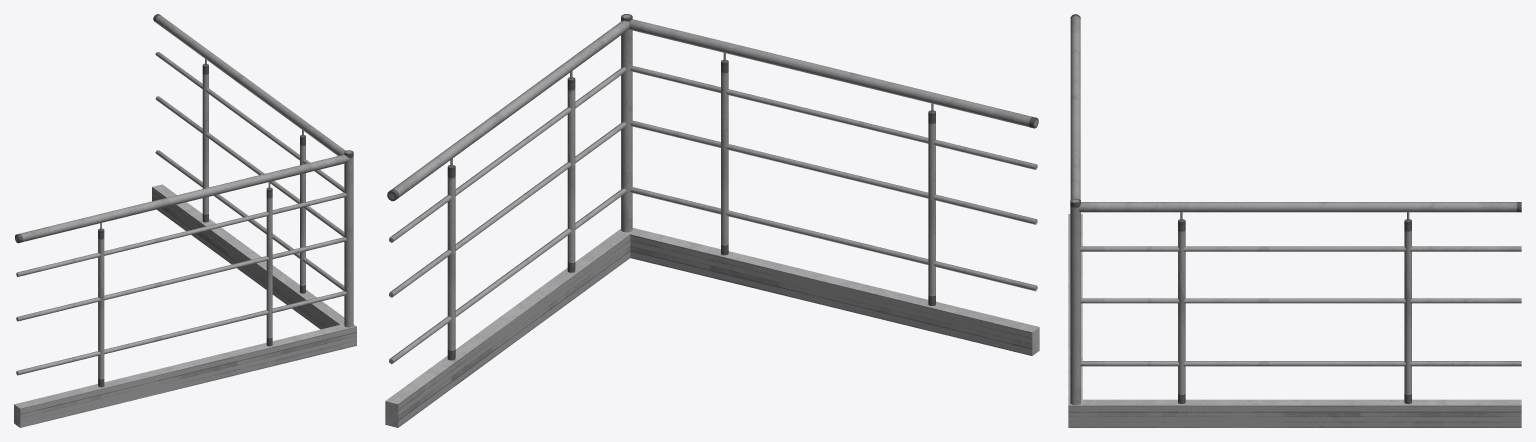
Rendered from HH_Railing_Angle.fbx.
3 renders of one model, left to right at view 1: azimuth 30°, elevation 25°; view 2: azimuth 150°, elevation 25°; view 3: azimuth 270°, elevation 25°, orthographic. The views are drawn at different scales.
Visible parts, largest first — view 1: HH_Railing_Angle_LOD0; view 2: HH_Railing_Angle_LOD0; view 3: HH_Railing_Angle_LOD0.
Part boxes in pixels (box(x1,y1,x2,y2)): HH_Railing_Angle_LOD0: box(14, 14, 356, 427); HH_Railing_Angle_LOD0: box(385, 14, 1039, 427); HH_Railing_Angle_LOD0: box(1068, 14, 1521, 427).
Size of what is drawn, in the model's own units: 200 by 109 by 200.
